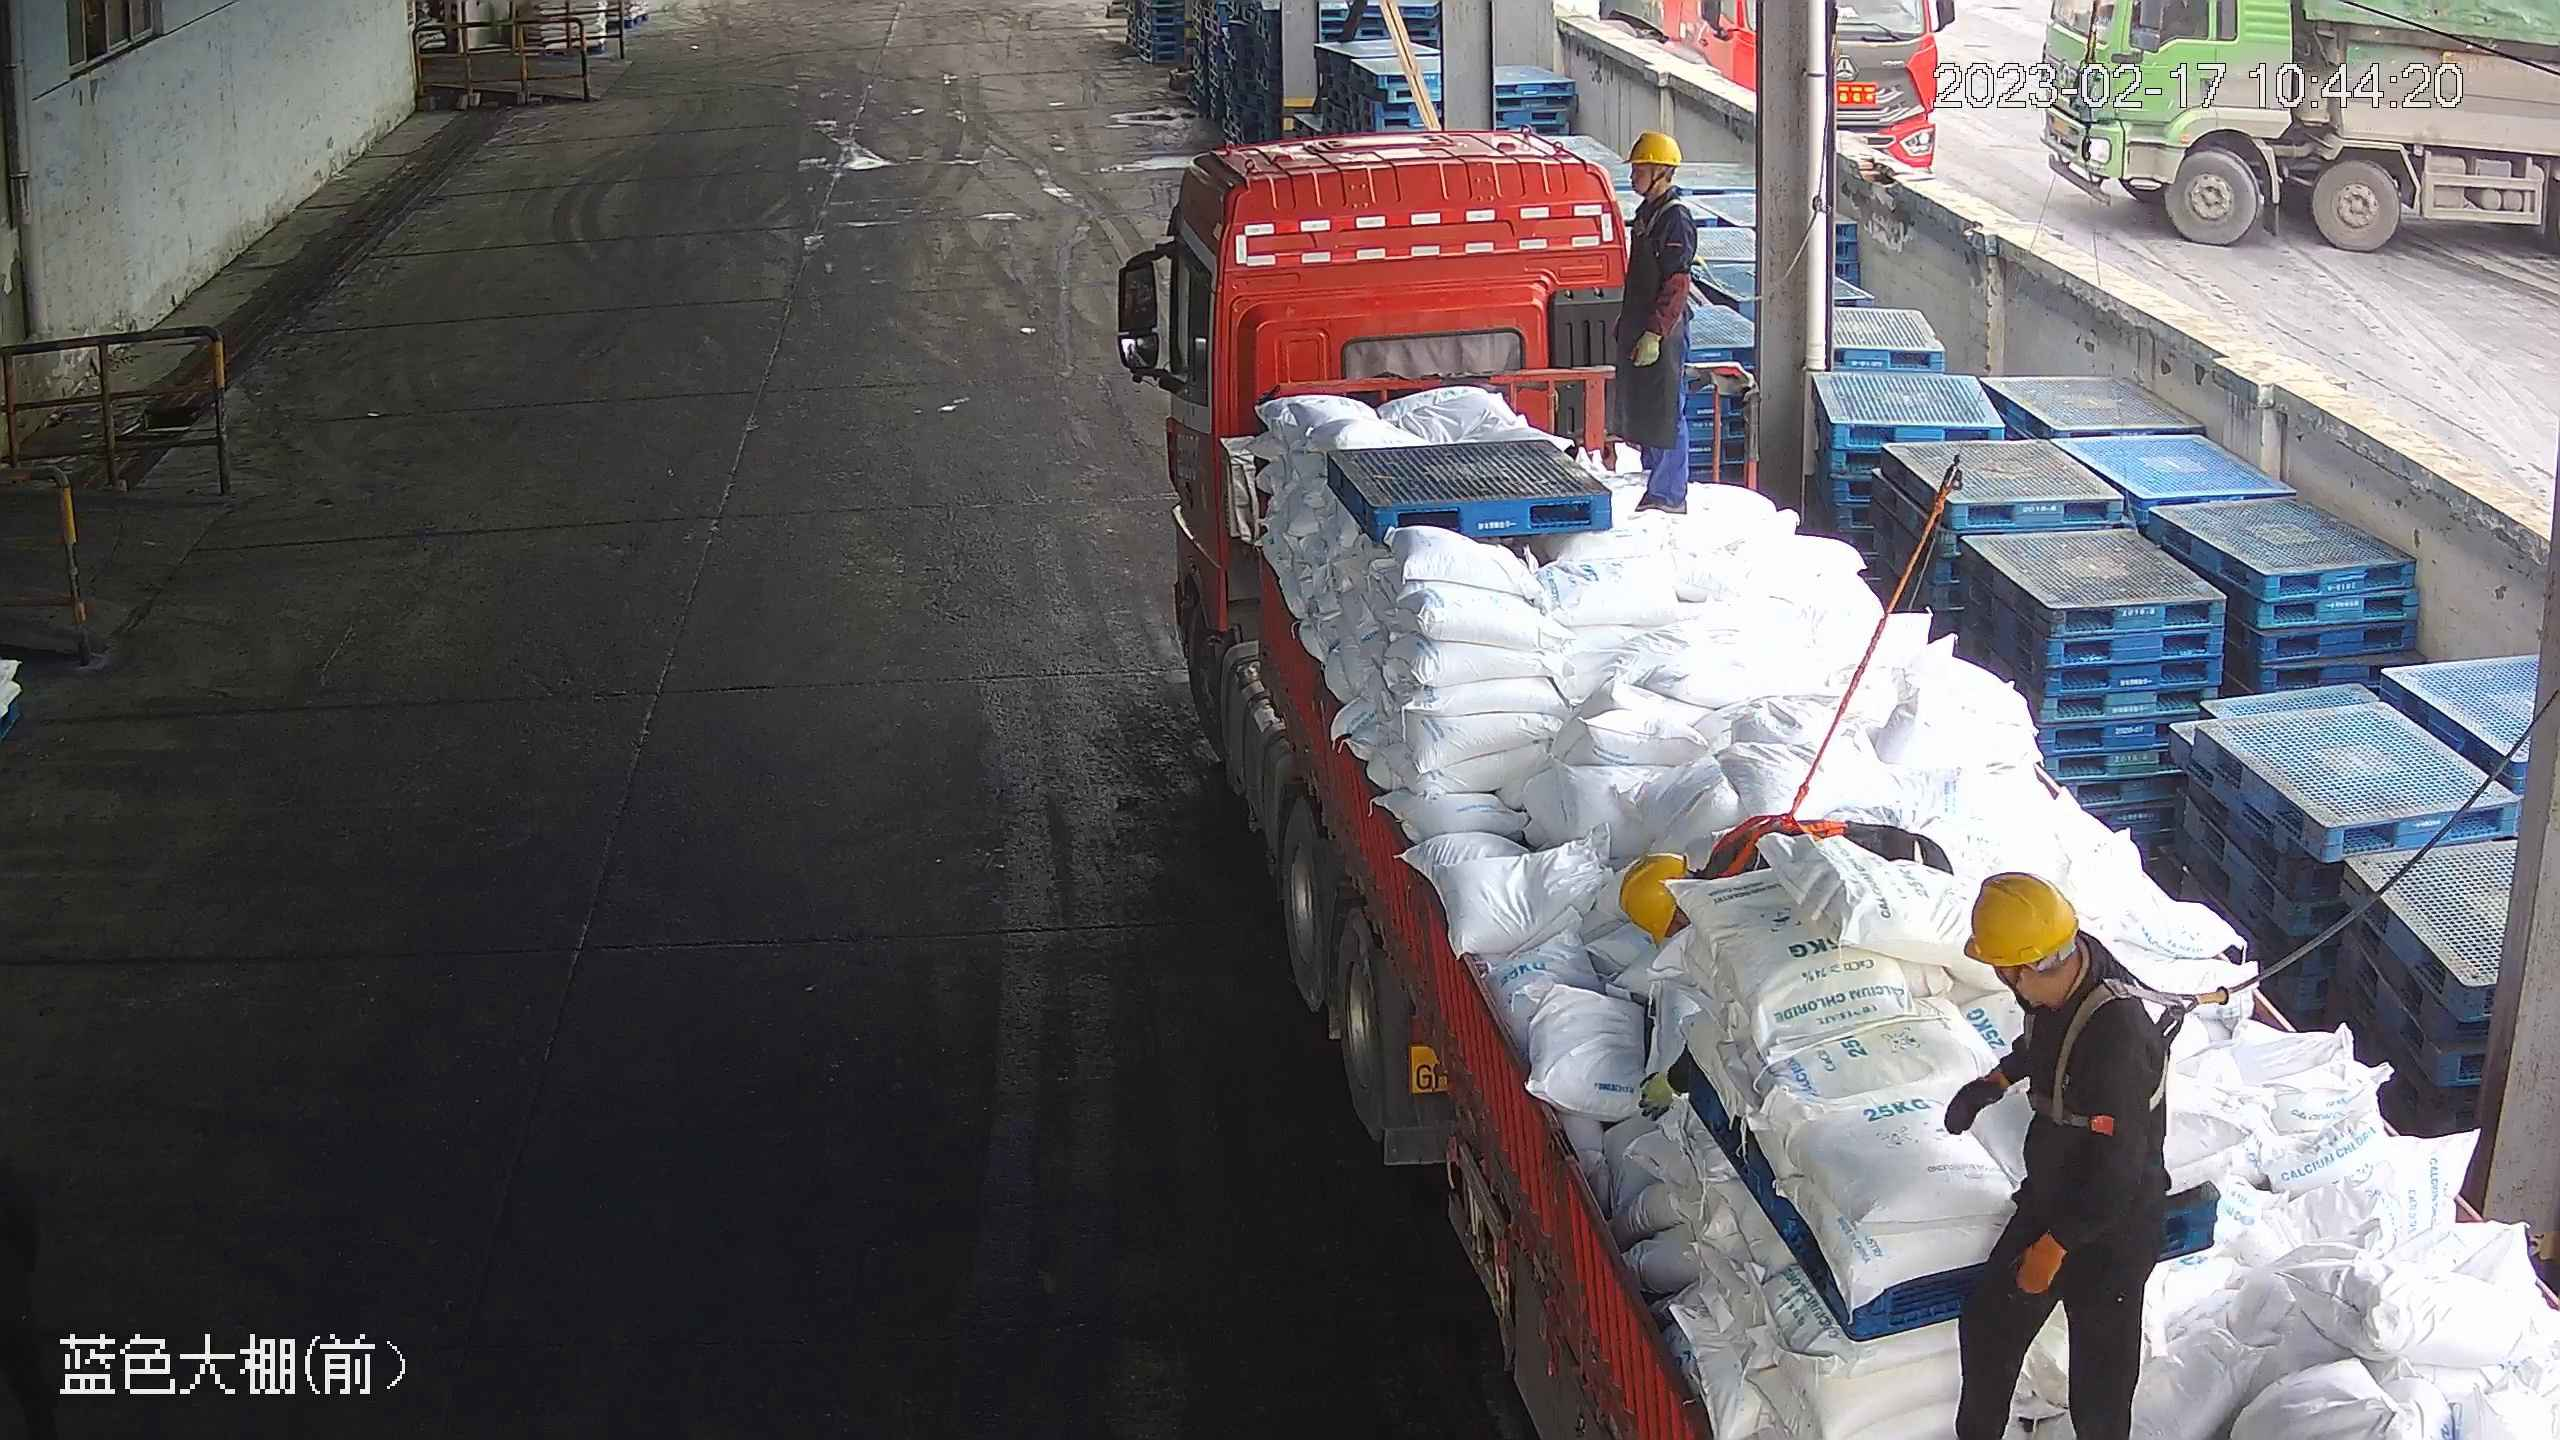belt: (2012, 976, 2239, 1127), (1707, 801, 1857, 877), (1636, 201, 1718, 274)
head: (1964, 869, 2167, 1100), (1608, 130, 1696, 252)
helmet: (1962, 869, 2079, 966), (1617, 852, 1691, 939), (1623, 128, 1678, 167)
people: (1942, 872, 2173, 1440), (1610, 133, 1700, 517)
truck: (1115, 132, 2560, 1440), (2037, 1, 2560, 262)
